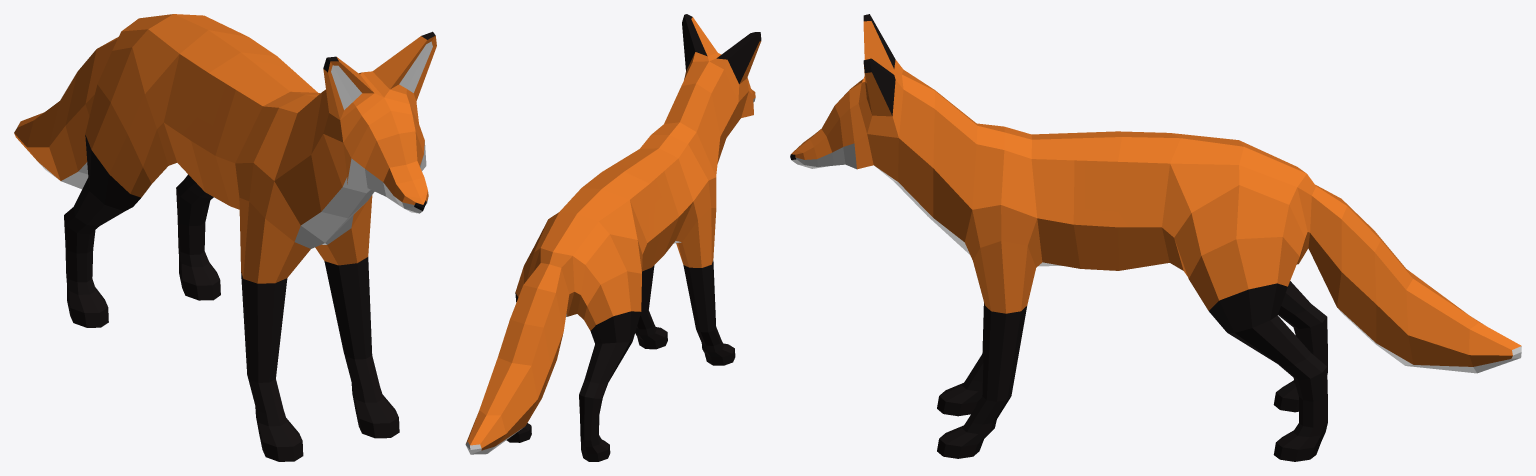
Rendered from fox.gltf.
3 renders of one model, left to right at view 1: azimuth 30°, elevation 25°; view 2: azimuth 150°, elevation 25°; view 3: azimuth 270°, elevation 25°, orthographic. The views are drawn at different scales.
Parts seen in each view (by area): view 1: 01foxFinal; view 2: 01foxFinal; view 3: 01foxFinal.
Boxes of the visible parts, x1,y1,x2,y2 form: 01foxFinal: (14,14,436,461); 01foxFinal: (465,14,761,461); 01foxFinal: (790,14,1521,461).
Bounding box in the file's own units: 0.4363 × 1.13 × 1.91.
1 material, 1 textured.
